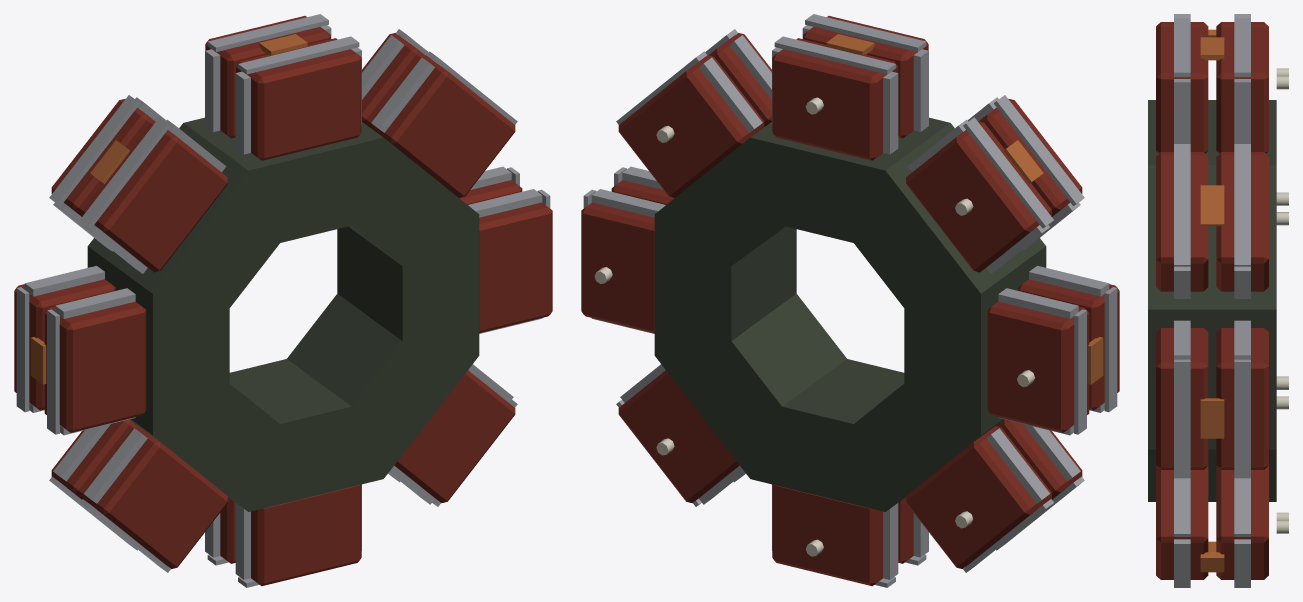
File: tz16v_coil_ring.obj
3 renders of one model, left to right at view 1: azimuth 30°, elevation 25°; view 2: azimuth 150°, elevation 25°; view 3: azimuth 270°, elevation 25°, orthographic.
Parts seen in each view (by area): view 1: tz16v_coil_ring; view 2: tz16v_coil_ring; view 3: tz16v_coil_ring.
Boxes of the visible parts, x1=… form: tz16v_coil_ring: x1=14, y1=14, x2=552, y2=587; tz16v_coil_ring: x1=581, y1=14, x2=1119, y2=587; tz16v_coil_ring: x1=1148, y1=14, x2=1288, y2=587.
Bounding box in the file's own units: 2.85 × 2.85 × 0.7112.
